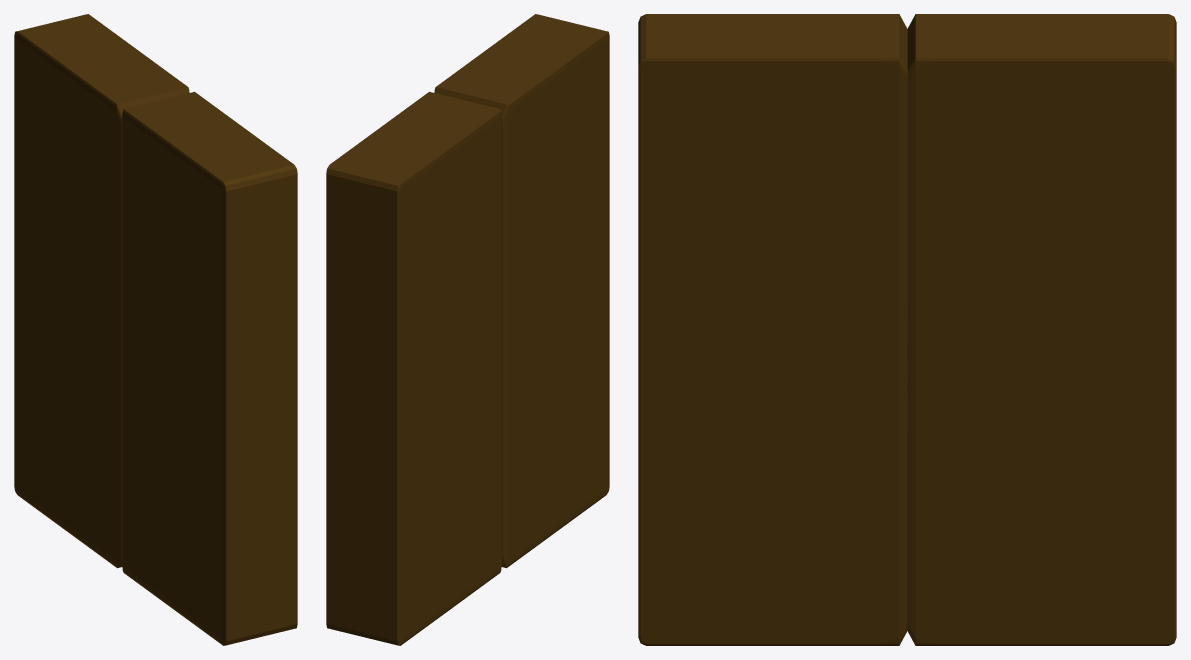
File: pencere.fbx
The picture shows the model from 3 angles, left to right: view 1: azimuth 30°, elevation 25°; view 2: azimuth 150°, elevation 25°; view 3: azimuth 270°, elevation 25°; orthographic projection. The views are drawn at different scales.
Parts seen in each view (by area): view 1: Cube; view 2: Cube; view 3: Cube.
Boxes of the visible parts, x1,y1,x2,y2 form: Cube: (14,14,297,645); Cube: (326,14,609,645); Cube: (638,14,1176,645).
Size of the model in its own units: 33.07 by 200 by 166.
